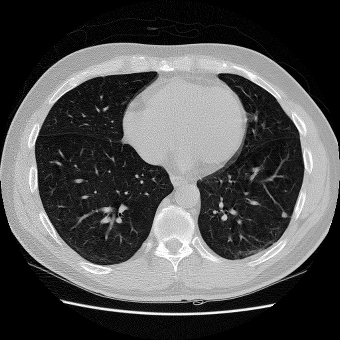nodule: (281, 212, 287, 218)
